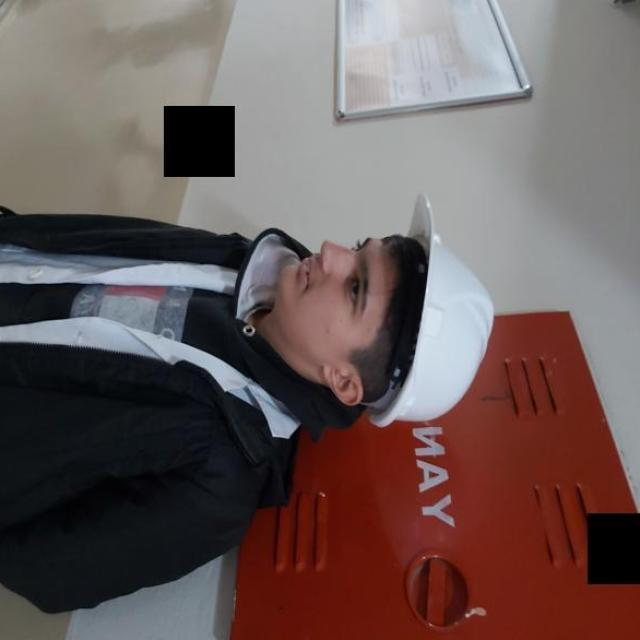helmet: (364, 191, 496, 427)
